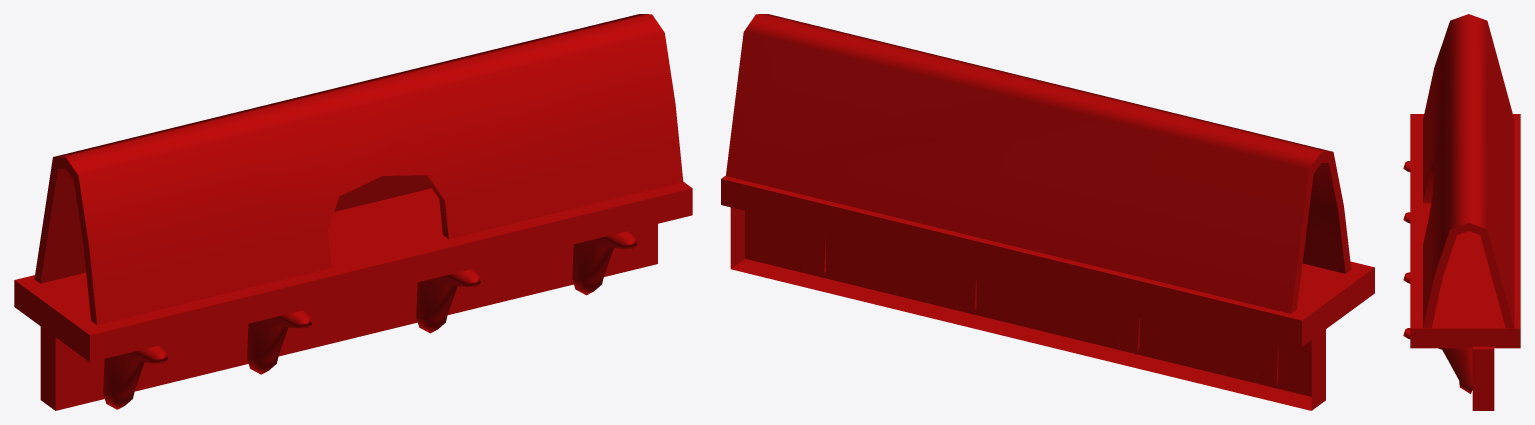
Rendered from SM_Top.fbx.
The picture shows the model from 3 angles, left to right: view 1: azimuth 30°, elevation 25°; view 2: azimuth 150°, elevation 25°; view 3: azimuth 270°, elevation 25°; orthographic projection. The views are drawn at different scales.
Visible parts, largest first — view 1: SM_Top; view 2: SM_Top; view 3: SM_Top.
Part boxes in pixels (box(x1,y1,x2,y2)): SM_Top: box(14, 14, 692, 410); SM_Top: box(721, 14, 1374, 410); SM_Top: box(1403, 14, 1520, 410).
Bounding box in the file's own units: 143 × 59.59 × 32.6.
